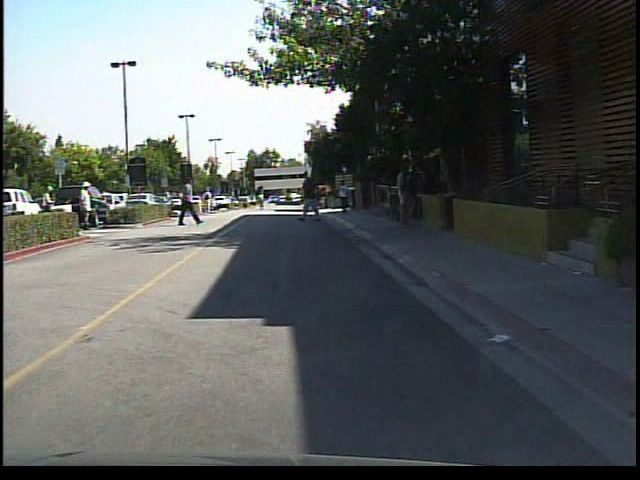person: (392, 155, 419, 233), (299, 167, 327, 225), (178, 172, 204, 231), (78, 177, 101, 232), (410, 165, 431, 224), (40, 181, 62, 236), (337, 176, 354, 218), (201, 187, 216, 217), (255, 188, 270, 212)
